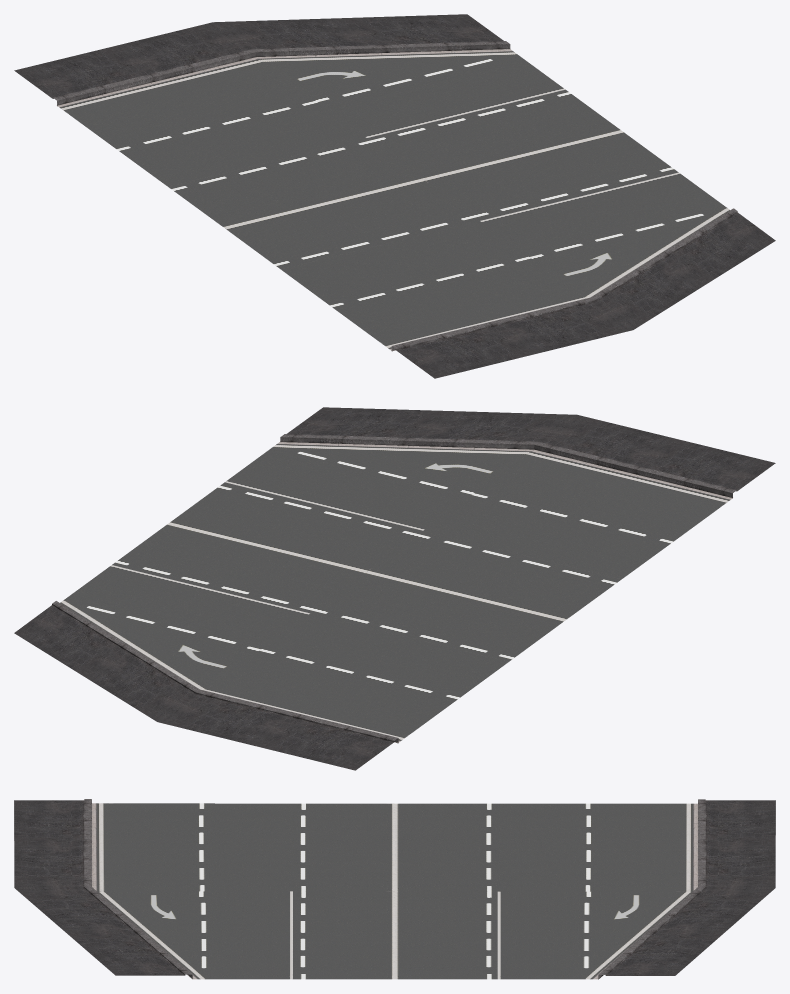
Rendered from 6 to 4 lines  exit.FBX.
3 renders of one model, top to bottom at view 1: azimuth 30°, elevation 25°; view 2: azimuth 150°, elevation 25°; view 3: azimuth 270°, elevation 25°, orthographic. The views are drawn at different scales.
Visible parts, largest first — view 1: Plane251; view 2: Plane251; view 3: Plane251.
Boxes of the visible parts, x1,y1,x2,y2 form: Plane251: (14, 14, 775, 378); Plane251: (14, 407, 775, 770); Plane251: (14, 799, 775, 979).
Bounding box in the file's own units: 24.03 × 0.3184 × 43.99.
